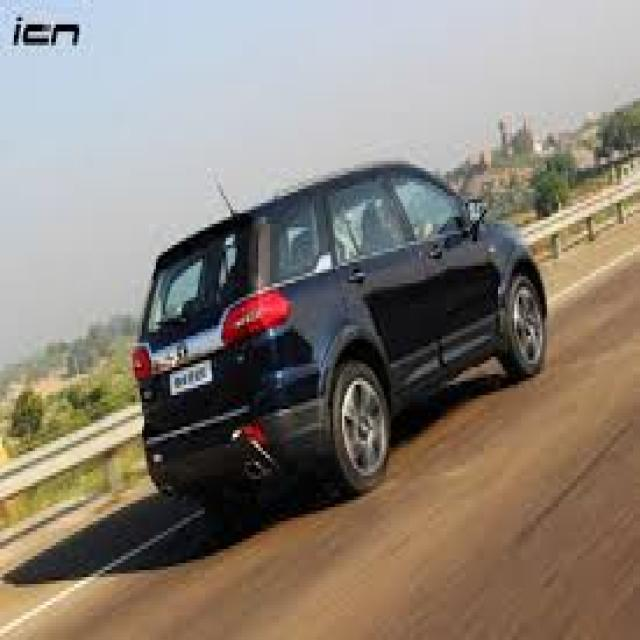car: (125, 148, 555, 523)
